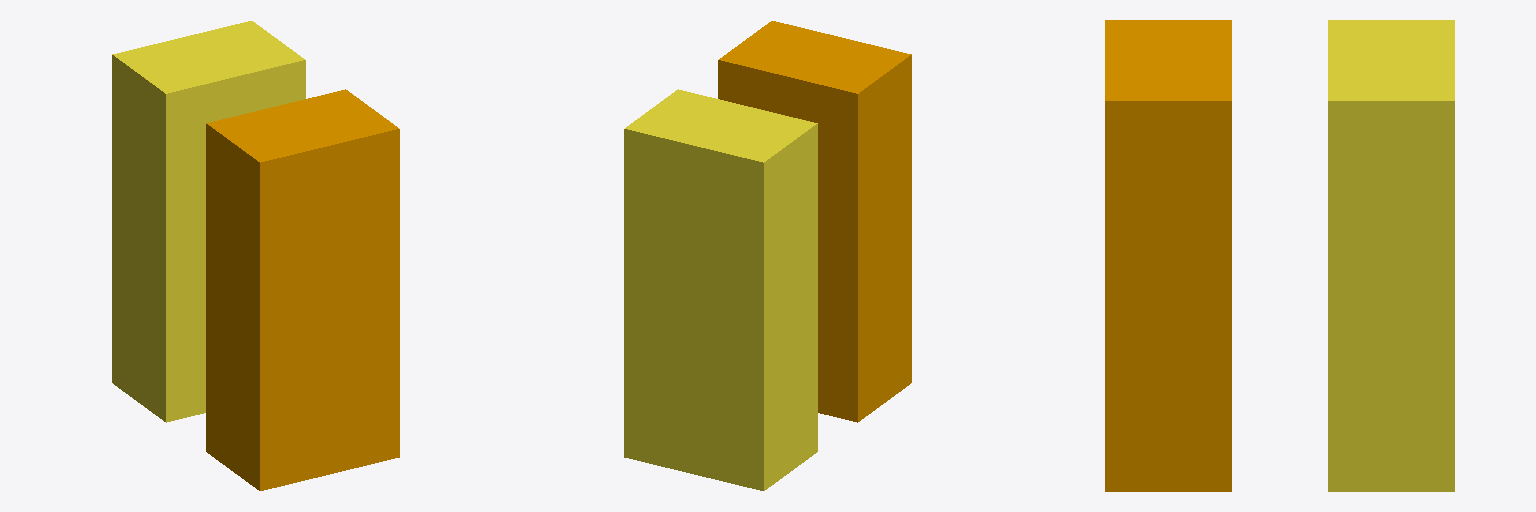
URDF robot description (v6):
<?xml version="1.0" ?>
<robot name="v6">

<material name="silver">
  <color rgba="0.700 0.700 0.700 1.000"/>
</material>


<link name="base_link">
  <inertial>
    <origin xyz="0.006 0 0.095" rpy="0 0 0"/>
    <mass value="8.010643"/>
    <inertia ixx="0.1635" iyy="0.1096" izz="0.08605" ixy="0" iyz="0" ixz="-0.004905"/>
  </inertial>
  <visual>
    <origin xyz="0 0 -0.016" rpy="0 0 0"/>
    <geometry>
      <mesh filename="meshes/base_link.stl" scale="0.001 0.001 0.001"/>
    </geometry>
    <material name="silver"/>
    <material/>
  </visual>
  <collision>
    <origin xyz="0 0 0.1665" rpy="0 0 0"/>
    <geometry>
       <box size="0.160 0.300 0.365"/>
    </geometry>
  </collision>
</link>

<link name="hip-L-1_1">
  <inertial>
    <origin xyz="-6.189197686711422e-18 0.081816 -0.073193" rpy="0 0 0"/>
    <mass value="2.976066"/>
    <inertia ixx="0.01329" iyy="0.006238" izz="0.01125" ixy="0" iyz="-0.003457" ixz="0"/>
  </inertial>
  <visual>
    <origin xyz="-0.0 -0.09 0.0" rpy="0 0 0"/>
    <geometry>
      <mesh filename="meshes/hip-L-1_1.stl" scale="0.001 0.001 0.001"/>
    </geometry>
    <material name="silver"/>
    <material/>
  </visual>
  <!-- <collision>
    <origin xyz="0 0.114 -0.08" rpy="1.5707963 0 0"/>
    <geometry>
      <cylinder radius="0.0595" length="0.069"/>
    </geometry>
  </collision> -->
</link>

<link name="hip-L-2_1">
  <inertial>
    <origin xyz="0 -0.078238 -0.00696" rpy="0 0 0"/>
    <mass value="1.962229"/>
    <inertia ixx="0.003932" iyy="0.002264" izz="0.003152" ixy="0" iyz="0" ixz="0"/>
  </inertial>
  <visual>
    <origin xyz="-0.0 -0.1695 0.08" rpy="0 0 0"/>
    <geometry>
      <mesh filename="meshes/hip-L-2_1.stl" scale="0.001 0.001 0.001"/>
    </geometry>
    <material name="silver"/>
    <material/>
  </visual>
  <!-- <collision>
    <origin xyz="0 -0.0795 0" rpy=" 0 1.5707 0"/>
    <geometry>
      <cylinder radius="0.0565" length="0.061"/>
    </geometry>
  </collision> -->
</link>

<link name="thigh-L_1">
  <inertial>
    <origin xyz="-0.032881 -0.019651 -0.188957" rpy="0 0 0"/>
    <mass value="3.965636"/>
    <inertia ixx="0.03332" iyy="0.03585" izz="0.00632" ixy="0" iyz="0.001235" ixz="0.004203"/>
  </inertial>
  <visual>
    <origin xyz="-0.031 -0.02 -0.205" rpy="0 0 0"/>
    <geometry>
      <box size="0.12 0.08 0.27"/>
    </geometry>
    <material name="silver"/>
    <material/>
  </visual>
  <collision>
    <origin xyz="-0.031 -0.02 -0.205" rpy="0 0 0"/>
    <geometry>
      <box size="0.12 0.08 0.27"/>
    </geometry>
  </collision>
</link>


<link name="shank-L_1">
  <inertial>
    <origin xyz="0.020174 -0.011965 -0.118449" rpy="0 0 0"/>
    <mass value="0.817887"/>
    <inertia ixx="0.005919" iyy="0.006802" izz="0.0009646" ixy="0.0" iyz="0" ixz="-0.0007655"/>
  </inertial>
  <visual>
    <origin xyz="0.0005 -0.1025 0.36" rpy="0 0 0"/>
    <geometry>
      <mesh filename="meshes/shank-L_1.stl" scale="0.001 0.001 0.001"/>
    </geometry>
    <material name="silver"/>
    <material/>
  </visual>
  <!-- <collision>
    <origin xyz="0.0005 -0.1025 0.36" rpy="0 0 0"/>
    <geometry>
      <mesh filename="meshes/shank-L_1.stl" scale="0.001 0.001 0.001"/>
    </geometry>
  </collision> -->
</link>

<link name="foot-L_1">
  <inertial>
    <origin xyz="0.04057 0 -0.028042" rpy="0 0 0"/>
    <mass value="0.243354"/>
    <inertia ixx="0.0001416" iyy="0.0005063" izz="0.0004175" ixy="0.0" iyz="0" ixz="-0.0001864"/>
  </inertial>
  <visual>
    <origin xyz="0.0005 -0.09 0.5845" rpy="0 0 0"/>
    <geometry>
      <mesh filename="meshes/foot-L_1.stl" scale="0.001 0.001 0.001"/>
    </geometry>
    <material name="silver"/>
    <material/>
  </visual>
  <collision>
    <origin xyz="0.0455 0.009 -0.034" rpy="0 1.57079632679 0"/>
    <geometry>
      <cylinder radius="0.011" length="0.141" rpy="0 0 0"/>
    </geometry>
  </collision>
  <collision>
    <origin xyz="0.0455 -0.009 -0.034" rpy="0 1.57079632679 0"/>
    <geometry>
      <cylinder radius="0.011" length="0.141" rpy="0 0 0"/>
    </geometry>
  </collision>
</link>



<link name="hip-R-1_1">
  <inertial>
    <origin xyz="-6.189197686711422e-18 -0.081816 -0.073193" rpy="0 0 0"/>
    <mass value="2.976066"/>
    <inertia ixx="0.01329" iyy="0.006238" izz="0.01125" ixy="0" iyz="0.003457" ixz="0"/>
  </inertial>
  <visual>
    <origin xyz="0.0 0.09 -0.0" rpy="0 0 0"/>
    <geometry>
      <mesh filename="meshes/hip-R-1_1.stl" scale="0.001 0.001 0.001"/>
    </geometry>
    <material name="silver"/>
    <material/>
  </visual>
  <!-- <collision>
    <origin xyz="0 -0.114 -0.08" rpy="1.5707963 0 0"/>
    <geometry>
      <cylinder radius="0.0595" length="0.069"/>
    </geometry>
  </collision> -->
</link>

<link name="hip-R-2_1">
  <inertial>
    <origin xyz="0 0.078238 -0.00696" rpy="0 0 0"/>
    <mass value="1.962229"/>
    <inertia ixx="0.003932" iyy="0.002264" izz="0.003152" ixy="0" iyz="0" ixz="0"/>
  </inertial>
  <visual>
    <origin xyz="0.0 0.1695 0.08" rpy="0 0 0"/>
    <geometry>
      <mesh filename="meshes/hip-R-2_1.stl" scale="0.001 0.001 0.001"/>
    </geometry>
    <material name="silver"/>
    <material/>
  </visual>
  <!-- <collision>
    <origin xyz="0 0.0795 0" rpy=" 0 1.5707 0"/>
    <geometry>
      <cylinder radius="0.0565" length="0.061"/>
    </geometry>
  </collision> -->
</link>

<link name="thigh-R_1">
  <inertial>
    <origin xyz="-0.032881 0.019651 -0.188957" rpy="0 0 0"/>
    <mass value="3.965636"/>
    <inertia ixx="0.03332" iyy="0.03585" izz="0.00632" ixy="0" iyz="-0.001235" ixz="0.004203"/>
  </inertial>
  <visual>
    <origin xyz="-0.031 0.02 -0.205" rpy="0 0 0"/>
    <geometry>
      <box size="0.12 0.08 0.27"/>
    </geometry>
    <material name="silver"/>
    <material/>
  </visual>
  <collision>
    <origin xyz="-0.031 0.02 -0.205" rpy="0 0 0"/>
    <geometry>
      <box size="0.12 0.08 0.27"/>
    </geometry>
  </collision>
</link>



<link name="shank-R_1">
  <inertial>
    <origin xyz="0.020174 0.011965 -0.118449" rpy="0 0 0"/>
    <mass value="0.817887"/>
    <inertia ixx="0.005919" iyy="0.006802" izz="0.0009646" ixy="0.0" iyz="0" ixz="-0.0007655"/>
  </inertial>
  <visual>
    <origin xyz="0.0005 0.1025 0.36" rpy="0 0 0"/>
    <geometry>
      <mesh filename="meshes/shank-R_1.stl" scale="0.001 0.001 0.001"/>
    </geometry>
    <material name="silver"/>
    <material/>
  </visual>
  <!-- <collision>
    <origin xyz="0.0005 0.1025 0.36" rpy="0 0 0"/>
    <geometry>
      <mesh filename="meshes/shank-R_1.stl" scale="0.001 0.001 0.001"/>
    </geometry>
  </collision> -->
</link>


<link name="foot-R_1">
  <inertial>
    <origin xyz="0.04057 0 -0.028042" rpy="0 0 0"/>
    <mass value="0.243354"/>
    <inertia ixx="0.0001416" iyy="0.0005063" izz="0.0004175" ixy="0.0" iyz="0" ixz="-0.0001864"/>
  </inertial>
  <visual>
    <origin xyz="0.0005 0.09 0.5845" rpy="0 0 0"/>
    <geometry>
      <mesh filename="meshes/foot-R_1.stl" scale="0.001 0.001 0.001"/>
    </geometry>
    <material name="silver"/>
    <material/>
  </visual>
  <collision>
    <origin xyz="0.0455 0.009 -0.034" rpy="0 1.57079632679 0"/>
    <geometry>
      <cylinder radius="0.011" length="0.141" rpy="0 0 0"/>
    </geometry>
  </collision>
  <collision>
    <origin xyz="0.0455 -0.009 -0.034" rpy="0 1.57079632679 0"/>
    <geometry>
      <cylinder radius="0.011" length="0.141" rpy="0 0 0"/>
    </geometry>
  </collision>
</link>



<joint name="l-hip-0" type="revolute">
  <origin xyz="0.0 0.09 -0.016" rpy="0 0 0"/>
  <parent link="base_link"/>
  <child link="hip-L-1_1"/>
  <axis xyz="-0.0 0.0 -1.0"/>
  <limit upper="0.523599" lower="-1.047198" effort="81" velocity="13.333"/>
</joint>
<transmission name="l-hip-0_tran">
  <type>transmission_interface/SimpleTransmission</type>
  <joint name="l-hip-0">
    <hardwareInterface>PositionJointInterface</hardwareInterface>
  </joint>
  <actuator name="l-hip-0_actr">
    <hardwareInterface>PositionJointInterface</hardwareInterface>
    <mechanicalReduction>1</mechanicalReduction>
  </actuator>
</transmission>

<joint name="l-hip-1" type="revolute">
  <origin xyz="0.0 0.0795 -0.08" rpy="0 0 0"/>
  <parent link="hip-L-1_1"/>
  <child link="hip-L-2_1"/>
  <axis xyz="-0.0 -1.0 0.0"/>
  <limit upper="1.570796" lower="-1.570796" effort="90" velocity="12"/>
</joint>
<transmission name="l-hip-1_tran">
  <type>transmission_interface/SimpleTransmission</type>
  <joint name="l-hip-1">
    <hardwareInterface>PositionJointInterface</hardwareInterface>
  </joint>
  <actuator name="l-hip-1_actr">
    <hardwareInterface>PositionJointInterface</hardwareInterface>
    <mechanicalReduction>1</mechanicalReduction>
  </actuator>
</transmission>

<joint name="l-hip-2" type="revolute">
  <origin xyz="0.0305 -0.0795 0.0" rpy="0 0 0"/>
  <parent link="hip-L-2_1"/>
  <child link="thigh-L_1"/>
  <axis xyz="1.0 -0.0 -0.0"/>
  <limit upper="0.628319" lower="-0.349066" effort="81" velocity="13.333"/>
</joint>
<transmission name="l-hip-2_tran">
  <type>transmission_interface/SimpleTransmission</type>
  <joint name="l-hip-2">
    <hardwareInterface>PositionJointInterface</hardwareInterface>
  </joint>
  <actuator name="l-hip-2_actr">
    <hardwareInterface>PositionJointInterface</hardwareInterface>
    <mechanicalReduction>1</mechanicalReduction>
  </actuator>
</transmission>

<joint name="l-shank-3" type="revolute">
  <origin xyz="-0.031 0.0125 -0.28" rpy="0 0 0"/>
  <parent link="thigh-L_1"/>
  <child link="shank-L_1"/>
  <axis xyz="0.0 1.0 -0.0"/>
  <limit upper="1.570796" lower="0.0" effort="81" velocity="13.333"/>
</joint>
<transmission name="l-shank-3_tran">
  <type>transmission_interface/SimpleTransmission</type>
  <joint name="l-shank-3">
    <hardwareInterface>PositionJointInterface</hardwareInterface>
  </joint>
  <actuator name="l-shank-3_actr">
    <hardwareInterface>PositionJointInterface</hardwareInterface>
    <mechanicalReduction>1</mechanicalReduction>
  </actuator>
</transmission>

<joint name="l-foot-4" type="revolute">
  <origin xyz="0.0 -0.0125 -0.2245" rpy="0 0 0"/>
  <parent link="shank-L_1"/>
  <child link="foot-L_1"/>
  <axis xyz="-0.0 1.0 0.0"/>
  <limit upper="0.802851" lower="-0.628319" effort="45" velocity="10.667"/>
</joint>
<transmission name="l-foot-4_tran">
  <type>transmission_interface/SimpleTransmission</type>
  <joint name="l-foot-4">
    <hardwareInterface>PositionJointInterface</hardwareInterface>
  </joint>
  <actuator name="l-foot-4_actr">
    <hardwareInterface>PositionJointInterface</hardwareInterface>
    <mechanicalReduction>1</mechanicalReduction>
  </actuator>
</transmission>

<joint name="r-hip-0" type="revolute">
  <origin xyz="0.0 -0.09 -0.016" rpy="0 0 0"/>
  <parent link="base_link"/>
  <child link="hip-R-1_1"/>
  <axis xyz="-0.0 0.0 -1.0"/>
  <limit upper="1.047198" lower="-0.523599" effort="81" velocity="13.333"/>
</joint>
<transmission name="r-hip-0_tran">
  <type>transmission_interface/SimpleTransmission</type>
  <joint name="r-hip-0">
    <hardwareInterface>PositionJointInterface</hardwareInterface>
  </joint>
  <actuator name="r-hip-0_actr">
    <hardwareInterface>PositionJointInterface</hardwareInterface>
    <mechanicalReduction>1</mechanicalReduction>
  </actuator>
</transmission>

<joint name="r-hip-1" type="revolute">
  <origin xyz="0.0 -0.0795 -0.08" rpy="0 0 0"/>
  <parent link="hip-R-1_1"/>
  <child link="hip-R-2_1"/>
  <axis xyz="0.0 1.0 -0.0"/>
  <limit upper="1.570796" lower="-1.570796" effort="90" velocity="12"/>
</joint>
<transmission name="r-hip-1_tran">
  <type>transmission_interface/SimpleTransmission</type>
  <joint name="r-hip-1">
    <hardwareInterface>PositionJointInterface</hardwareInterface>
  </joint>
  <actuator name="r-hip-1_actr">
    <hardwareInterface>PositionJointInterface</hardwareInterface>
    <mechanicalReduction>1</mechanicalReduction>
  </actuator>
</transmission>

<joint name="r-hip-2" type="revolute">
  <origin xyz="0.0305 0.0795 0.0" rpy="0 0 0"/>
  <parent link="hip-R-2_1"/>
  <child link="thigh-R_1"/>
  <axis xyz="1.0 -0.0 -0.0"/>
  <limit upper="0.349066" lower="-0.628319" effort="81" velocity="13.333"/>
</joint>
<transmission name="r-hip-2_tran">
  <type>transmission_interface/SimpleTransmission</type>
  <joint name="r-hip-2">
    <hardwareInterface>PositionJointInterface</hardwareInterface>
  </joint>
  <actuator name="r-hip-2_actr">
    <hardwareInterface>PositionJointInterface</hardwareInterface>
    <mechanicalReduction>1</mechanicalReduction>
  </actuator>
</transmission>

<joint name="r-shank-3" type="revolute">
  <origin xyz="-0.031 -0.0125 -0.28" rpy="0 0 0"/>
  <parent link="thigh-R_1"/>
  <child link="shank-R_1"/>
  <axis xyz="-0.0 -1.0 0.0"/>
  <limit upper="0.0" lower="-1.570796" effort="81" velocity="13.333"/>
</joint>
<transmission name="r-shank-3_tran">
  <type>transmission_interface/SimpleTransmission</type>
  <joint name="r-shank-3">
    <hardwareInterface>PositionJointInterface</hardwareInterface>
  </joint>
  <actuator name="r-shank-3_actr">
    <hardwareInterface>PositionJointInterface</hardwareInterface>
    <mechanicalReduction>1</mechanicalReduction>
  </actuator>
</transmission>


<joint name="r-foot-4" type="revolute">
  <origin xyz="0.0 0.0125 -0.2245" rpy="0 0 0"/>
  <parent link="shank-R_1"/>
  <child link="foot-R_1"/>
  <axis xyz="0.0 -1.0 0.0"/>
  <limit upper="0.628319" lower="-0.628319" effort="45" velocity="10.667"/>
</joint>
<transmission name="r-foot-4_tran">
  <type>transmission_interface/SimpleTransmission</type>
  <joint name="r-foot-4">
    <hardwareInterface>PositionJointInterface</hardwareInterface>
  </joint>
  <actuator name="r-foot-4_actr">
    <hardwareInterface>PositionJointInterface</hardwareInterface>
    <mechanicalReduction>1</mechanicalReduction>
  </actuator>
</transmission>

</robot>

--- Render facts (derived) ---
Views: 3 orthographic renders of the robot side by side, from view 1: azimuth 30°, elevation 25°; view 2: azimuth 150°, elevation 25°; view 3: azimuth 270°, elevation 25°.
Model v6 with 11 links and 10 joints (10 revolute), rooted at base_link, posed every joint at zero.
Links seen in each view (by area): view 1: thigh-R_1, thigh-L_1; view 2: thigh-L_1, thigh-R_1; view 3: thigh-L_1, thigh-R_1.
Link boxes in pixels (<box>): thigh-R_1: <box>206,89,399,490</box>; thigh-L_1: <box>112,21,305,422</box>; thigh-L_1: <box>624,89,817,490</box>; thigh-R_1: <box>718,21,911,422</box>; thigh-L_1: <box>1328,20,1454,491</box>; thigh-R_1: <box>1105,20,1231,491</box>.
Bounding box of the posed robot: 0.12 × 0.22 × 0.27 m (x, y, z).
0 mesh visuals loaded from 9 distinct referenced files (none loaded); not drawn: 9 (reference not matched to a file when rendering).